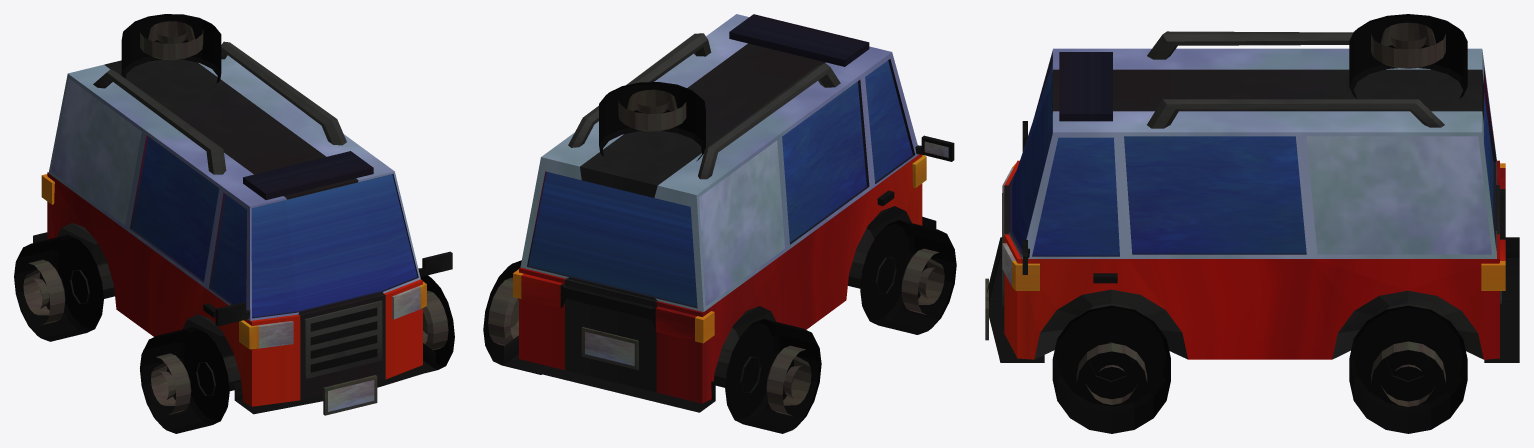
File: vehicle006.glb
3 views of the same model, side by side, from view 1: azimuth 30°, elevation 25°; view 2: azimuth 150°, elevation 25°; view 3: azimuth 270°, elevation 25° (orthographic). The views are drawn at different scales.
Parts seen in each view (by area): view 1: vehicle044; view 2: vehicle044; view 3: vehicle044.
Boxes of the visible parts, <box> form: vehicle044: <box>14,14,454,433</box>; vehicle044: <box>483,14,956,433</box>; vehicle044: <box>985,14,1519,433</box>.
Bounding box in the file's own units: 3.79 × 3.64 × 5.42.
1 material, 1 textured.
